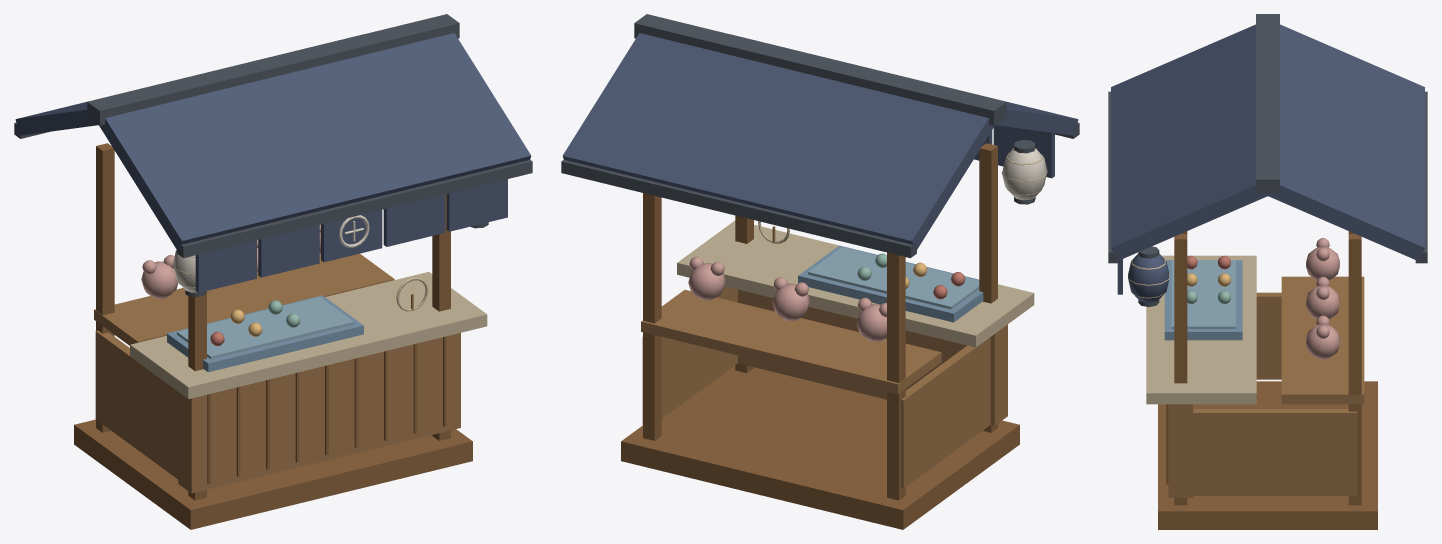
File: komachi-yatai-games.glb
The picture shows the model from 3 angles, left to right: view 1: azimuth 30°, elevation 25°; view 2: azimuth 150°, elevation 25°; view 3: azimuth 270°, elevation 25°; orthographic projection. The views are drawn at different scales.
Parts seen in each view (by area): view 1: Yatai_Frame_Canopy_And_Stock; view 2: Yatai_Frame_Canopy_And_Stock; view 3: Yatai_Frame_Canopy_And_Stock.
Part boxes in pixels (x1,y1,x2,y2): Yatai_Frame_Canopy_And_Stock: (14, 14, 532, 529); Yatai_Frame_Canopy_And_Stock: (561, 14, 1079, 529); Yatai_Frame_Canopy_And_Stock: (1108, 14, 1427, 529).
Size of the model in its own units: 0.855 by 0.886 by 0.696.
